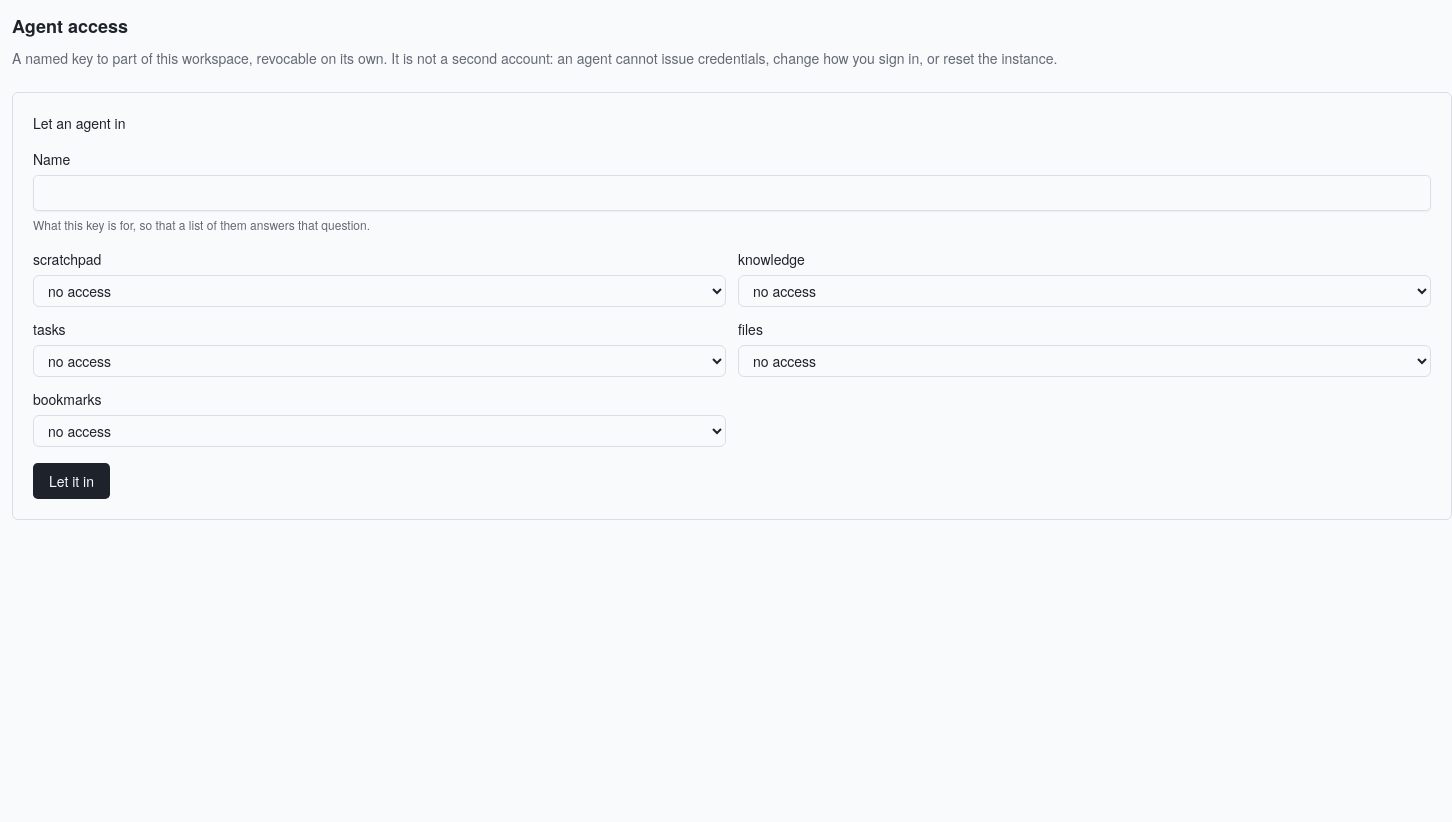
Test: agent access › says what the instance refused with
This screenshot has width=1452, height=822.
Type "deploy" into the field labelled "Name".
click(732, 193); type("deploy")  # box [33,175,1431,211]
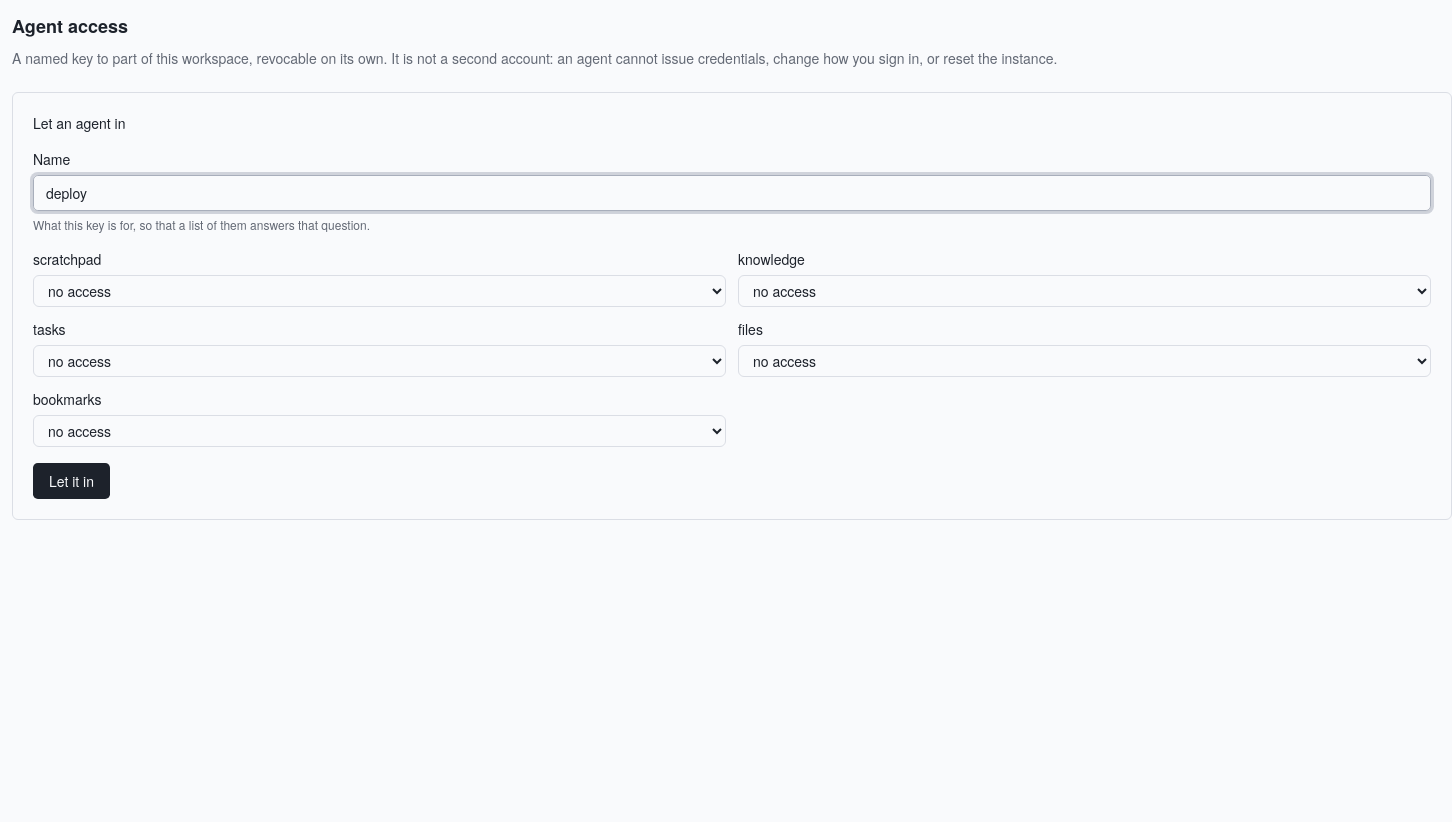
Click the button "Let it in".
click(72, 481)  # box [33,463,110,499]
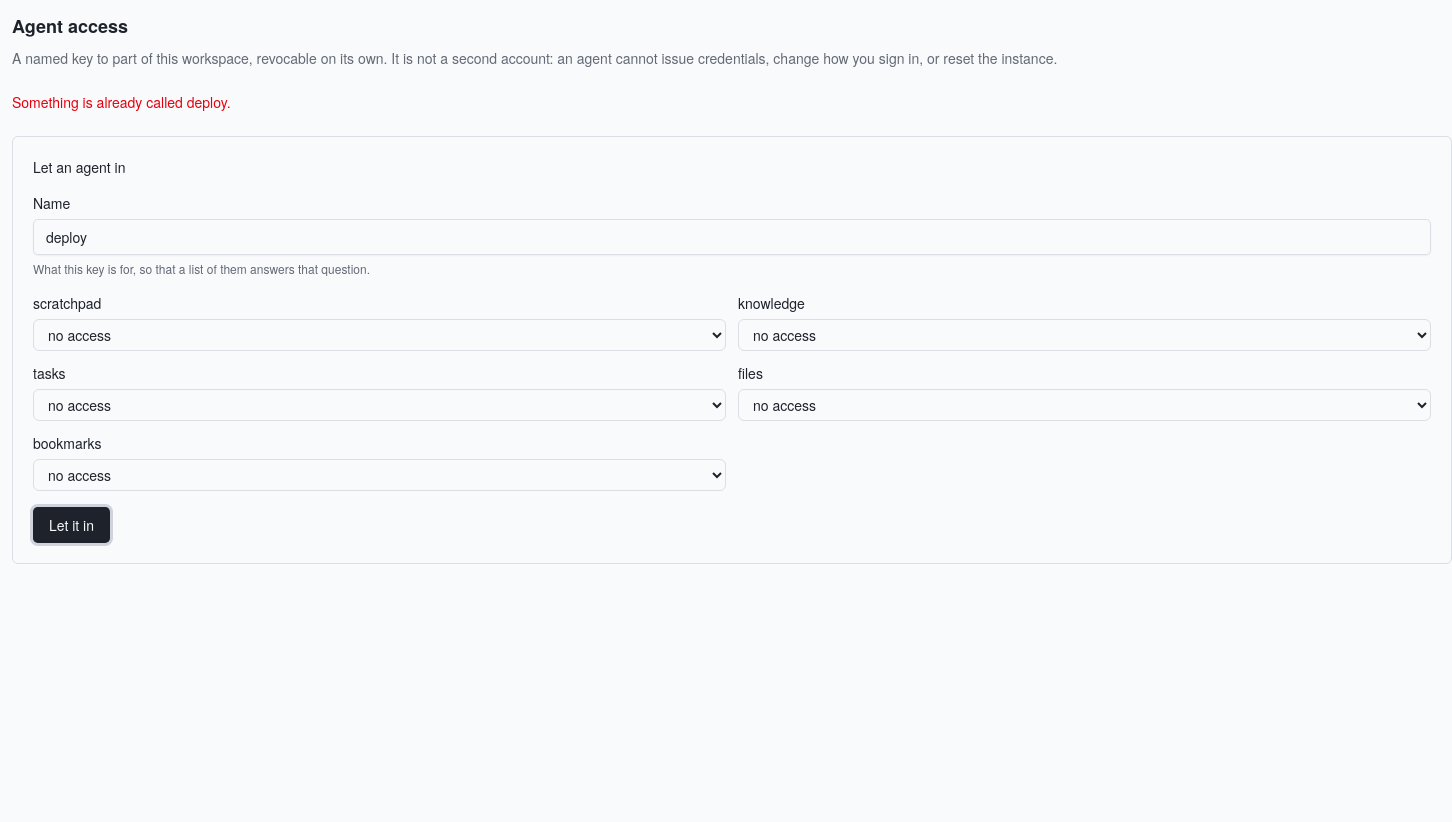
Check: the message shows "already called deploy", box [12,92,231,112]
